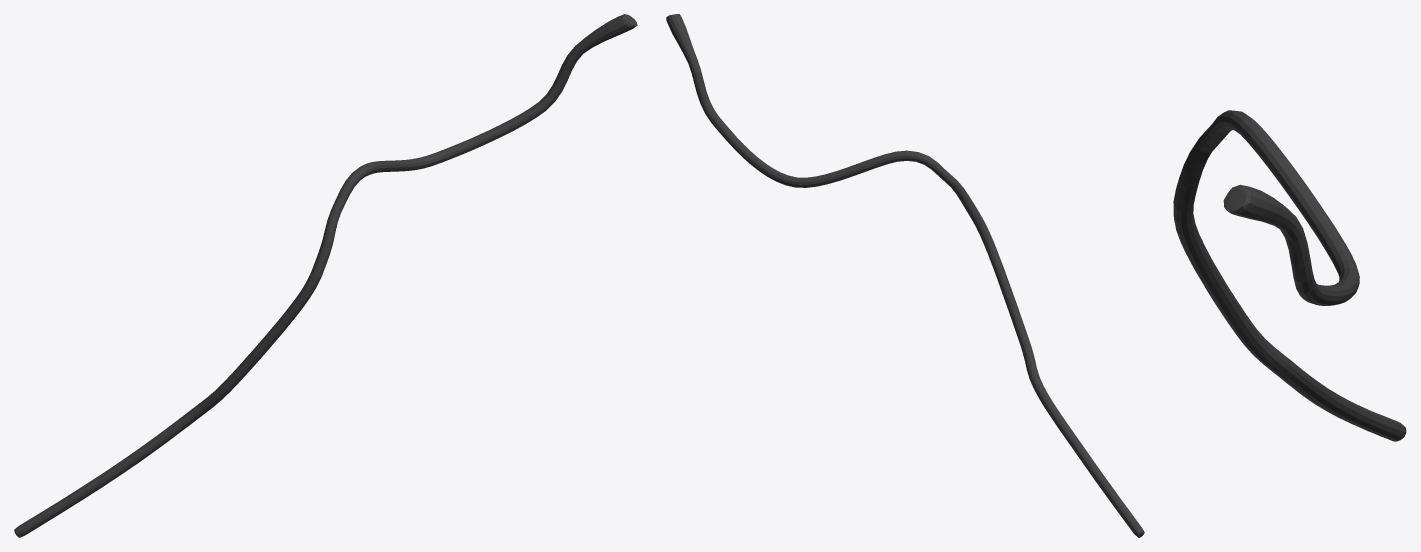
Rendered from NERVE_Chorda_tympani_L.glb.
3 views of the same model, side by side, from view 1: azimuth 30°, elevation 25°; view 2: azimuth 150°, elevation 25°; view 3: azimuth 270°, elevation 25° (orthographic). The views are drawn at different scales.
Parts seen in each view (by area): view 1: NERVE_Chorda_tympani_L; view 2: NERVE_Chorda_tympani_L; view 3: NERVE_Chorda_tympani_L.
Boxes of the visible parts, x1=… form: NERVE_Chorda_tympani_L: x1=14, y1=14, x2=637, y2=537; NERVE_Chorda_tympani_L: x1=666, y1=14, x2=1144, y2=537; NERVE_Chorda_tympani_L: x1=1173, y1=110, x2=1406, y2=441.
Size of the model in its own units: 4.88 by 3.36 by 0.9525.
1 material, 1 textured.
